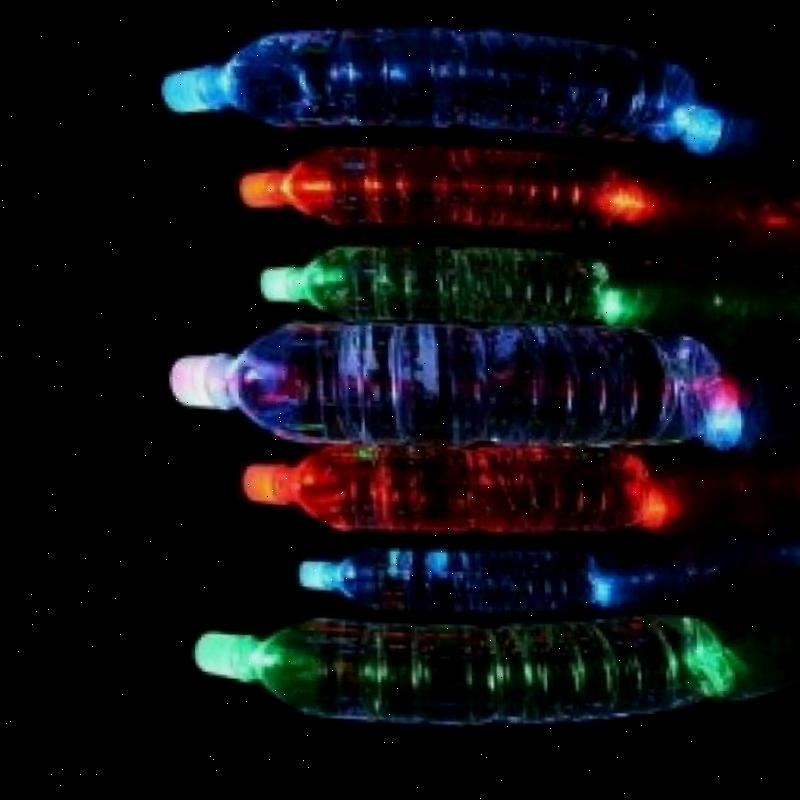botella: (150, 300, 482, 464), (150, 9, 478, 146), (173, 608, 501, 742), (227, 434, 466, 551), (229, 132, 457, 240), (246, 237, 463, 330), (278, 532, 475, 626)
